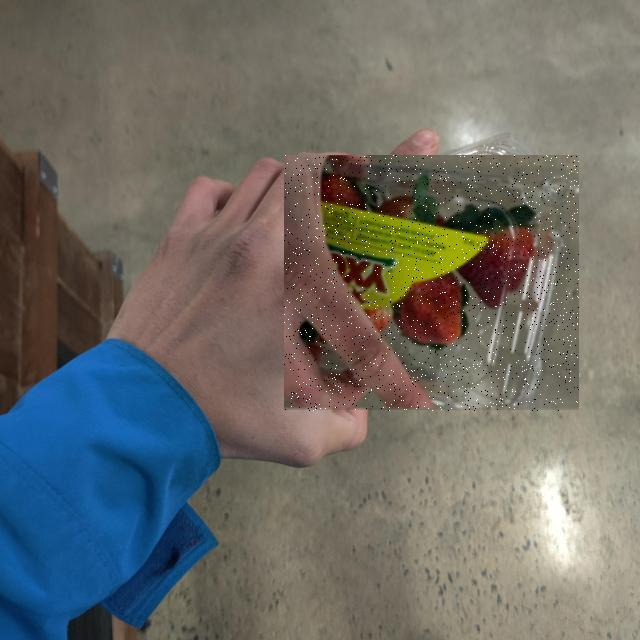Straw Berry: (284, 156, 579, 412)
